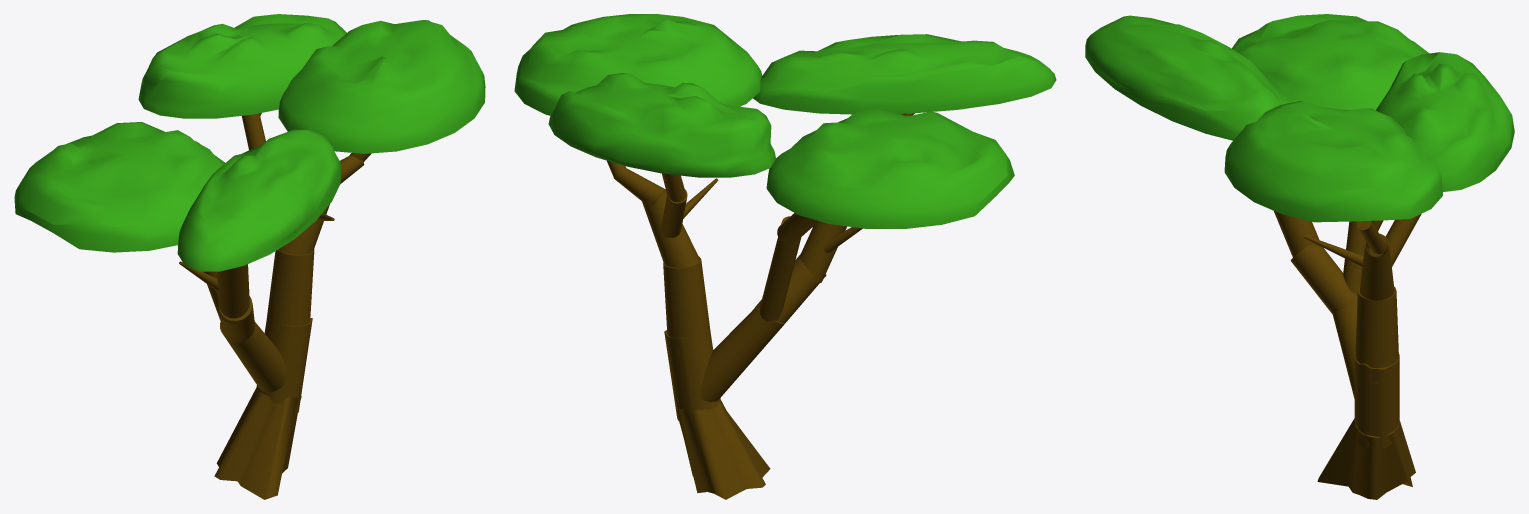
File: flat_head_tree.fbx
3 renders of one model, left to right at view 1: azimuth 30°, elevation 25°; view 2: azimuth 150°, elevation 25°; view 3: azimuth 270°, elevation 25°, orthographic.
Parts seen in each view (by area): view 1: pCylinder21; view 2: pCylinder21; view 3: pCylinder21.
Part boxes in pixels (x1,y1,x2,y2): pCylinder21: [14, 14, 485, 499]; pCylinder21: [514, 14, 1056, 499]; pCylinder21: [1085, 14, 1514, 499].
Size of the model in its own units: 20.83 by 18.37 by 16.95.
